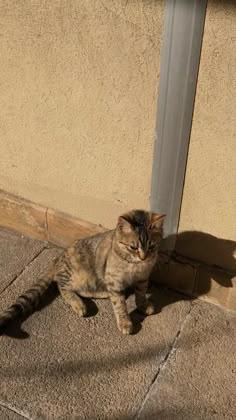kedo: (0, 209, 164, 335)
